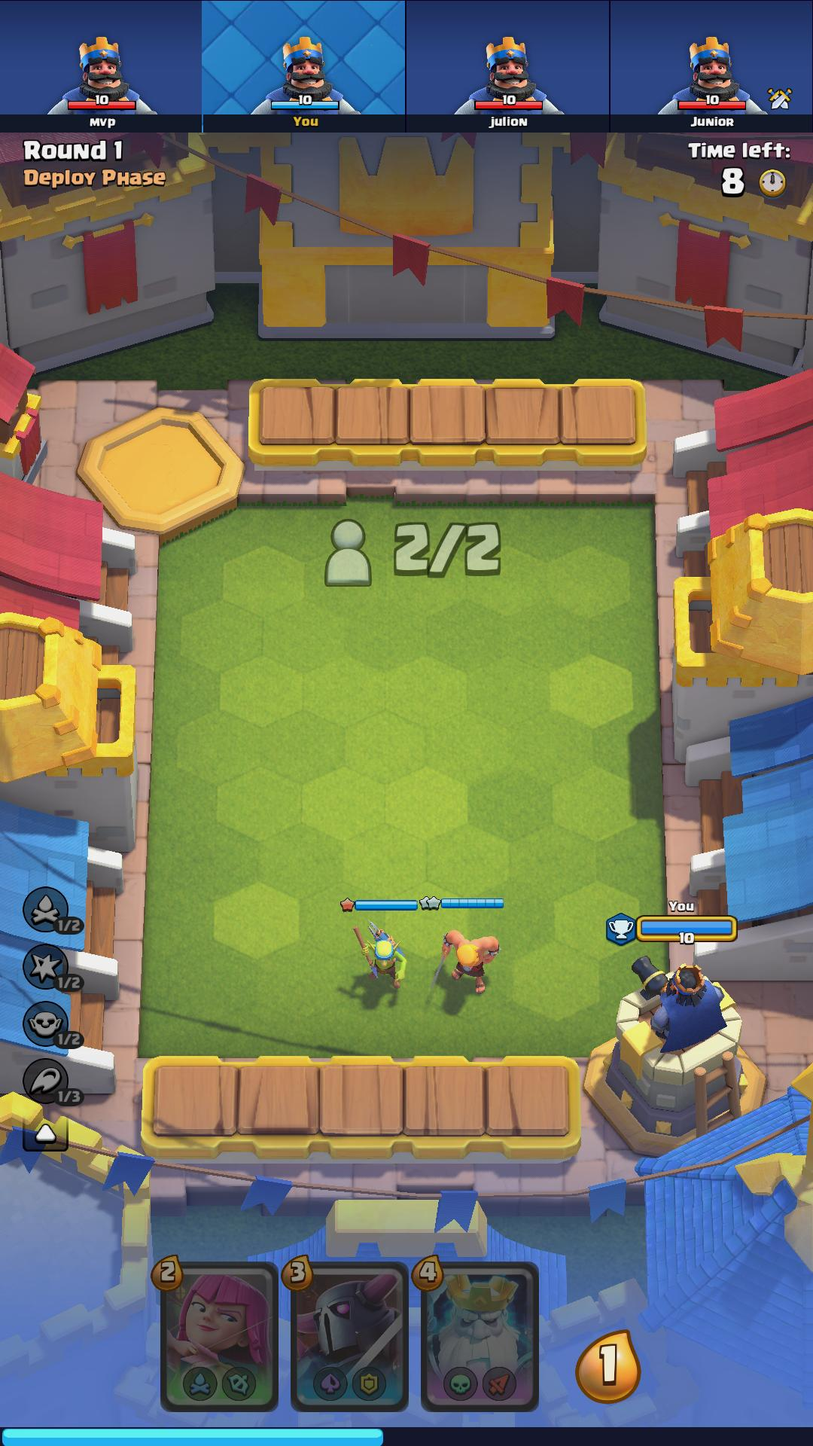barbarian: (434, 923, 501, 1000)
hand-archer: (161, 1262, 278, 1408)
hand-ghost: (425, 1267, 536, 1407)
hand-pekka: (292, 1264, 407, 1407)
spear: (353, 920, 409, 994)
